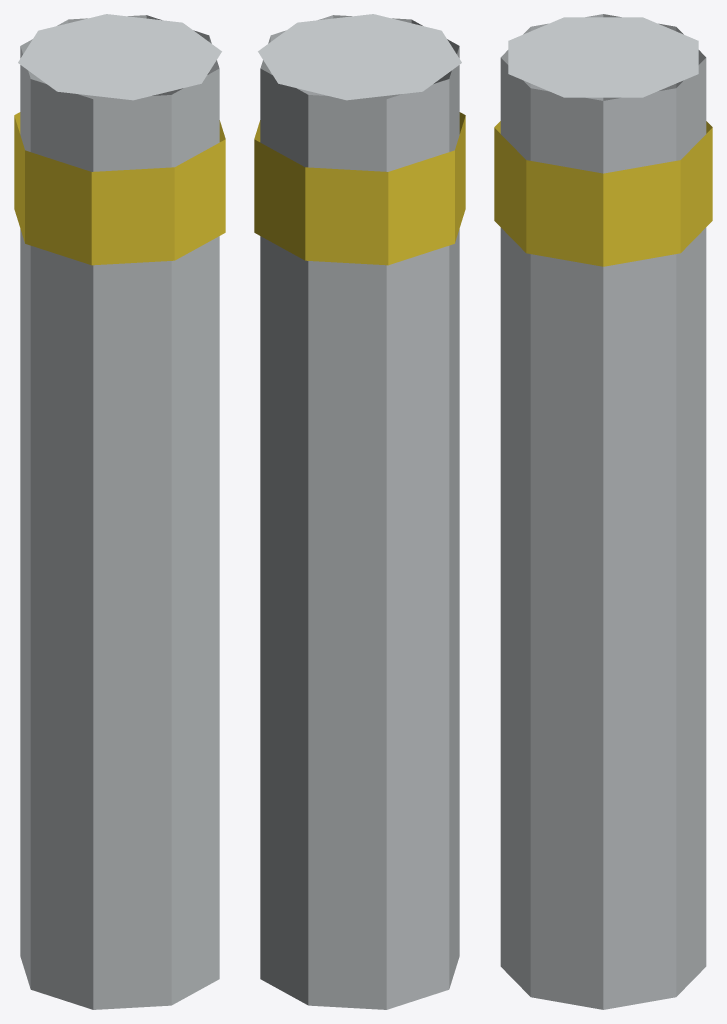
Rendered from site_bollard.fbx.
3 views of the same model, side by side, from view 1: azimuth 30°, elevation 25°; view 2: azimuth 150°, elevation 25°; view 3: azimuth 270°, elevation 25° (orthographic).
Parts seen in each view (by area): view 1: a3002/0/site_bollard; view 2: a3002/0/site_bollard; view 3: a3002/0/site_bollard.
Boxes of the visible parts, x1=… form: a3002/0/site_bollard: x1=14, y1=14, x2=225, y2=1009; a3002/0/site_bollard: x1=254, y1=14, x2=465, y2=1009; a3002/0/site_bollard: x1=494, y1=14, x2=712, y2=1009.
Bounding box in the file's own units: 0.17 × 0.78 × 0.17.
